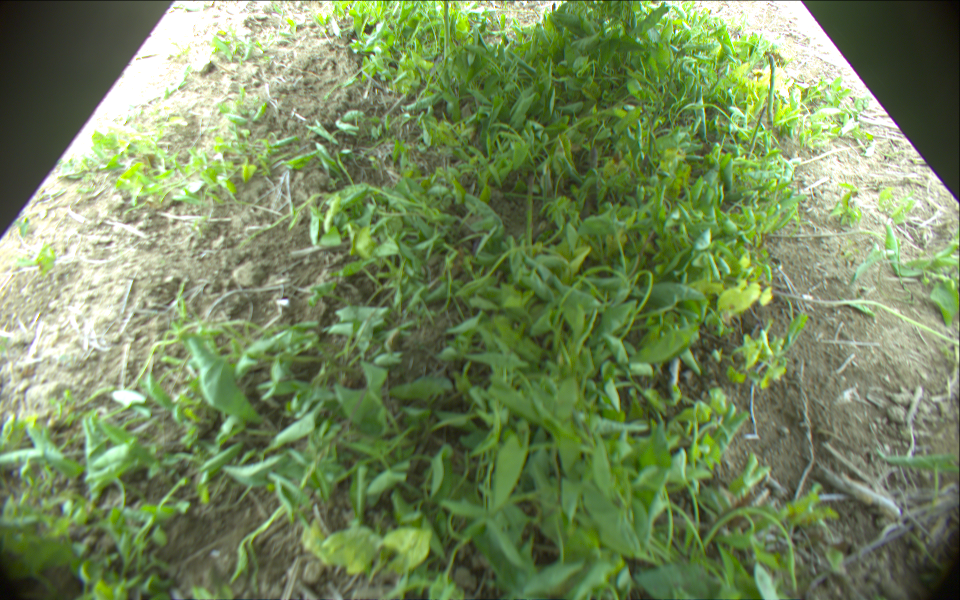aspa: (746, 105, 767, 159), (523, 174, 536, 255), (767, 53, 776, 127), (442, 1, 450, 61)
